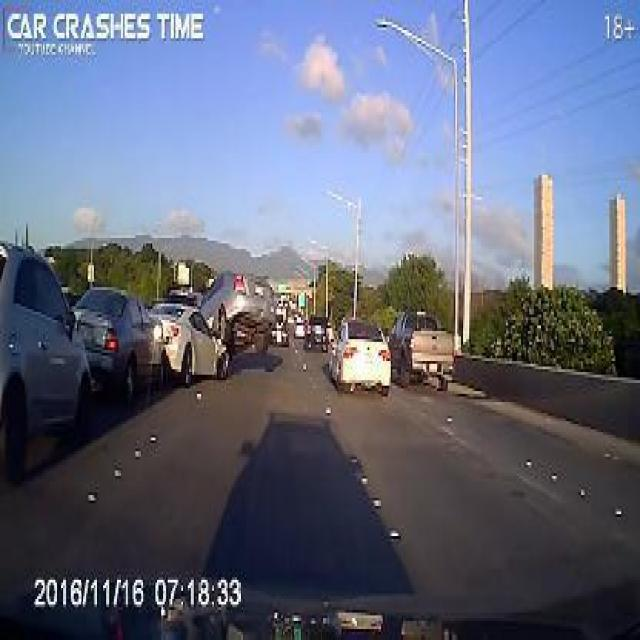accident: (143, 262, 277, 386)
